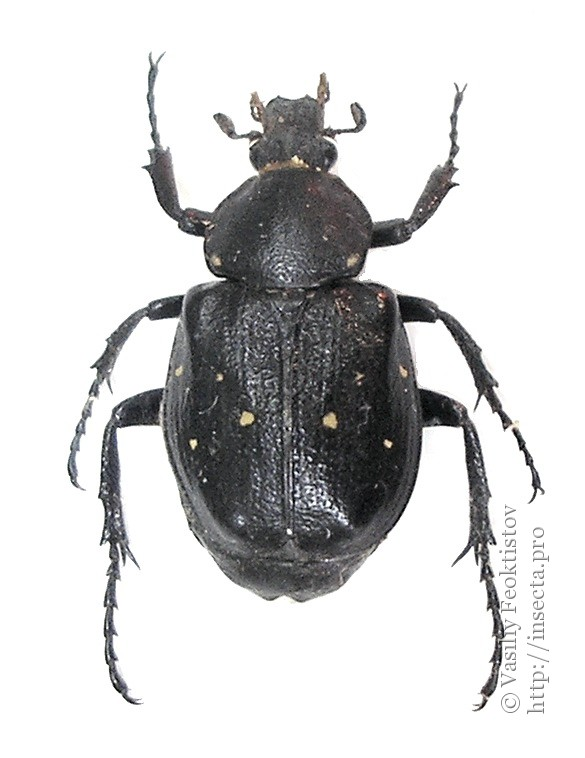Gnorimus_variabilis: (53, 19, 556, 729)
